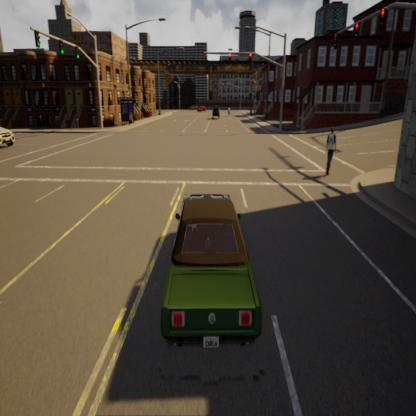Cars: (160, 188, 261, 358), (0, 118, 15, 151), (212, 103, 221, 120), (197, 101, 205, 112)
Pedestrian: (324, 123, 339, 178)
